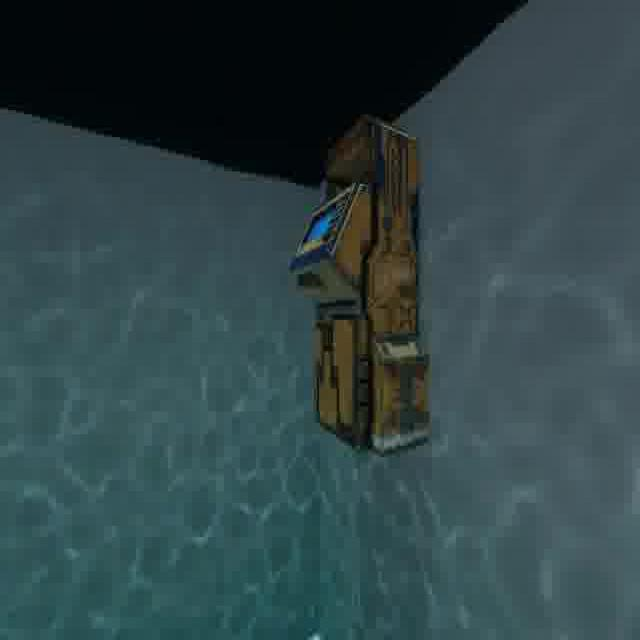Control Panel: (283, 94, 449, 462)
